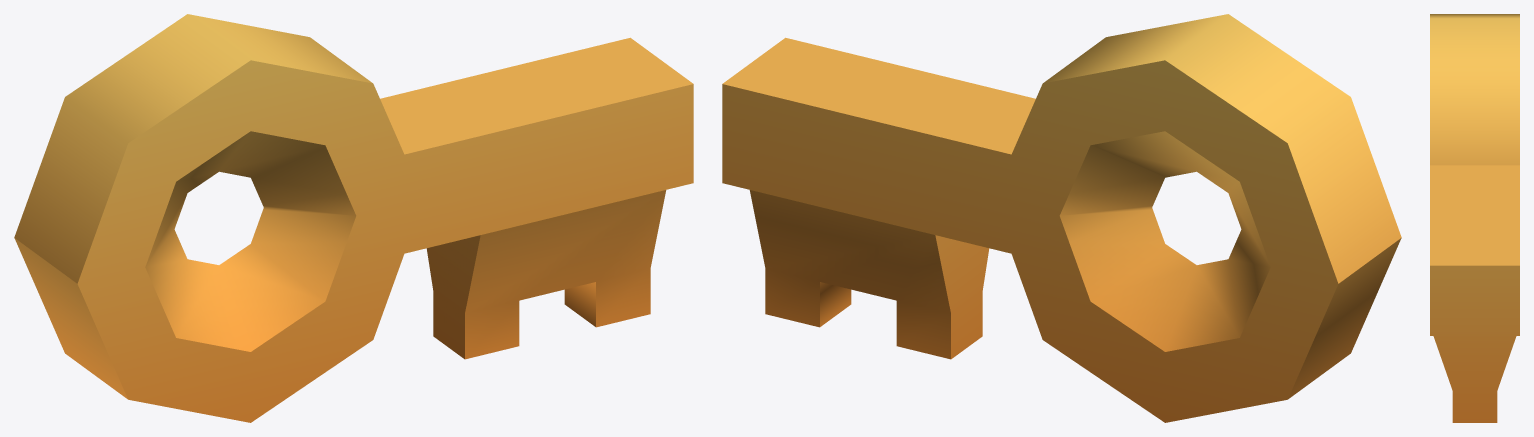
File: key.glb
3 views of the same model, side by side, from view 1: azimuth 30°, elevation 25°; view 2: azimuth 150°, elevation 25°; view 3: azimuth 270°, elevation 25° (orthographic). The views are drawn at different scales.
Visible parts, largest first — view 1: key; view 2: key; view 3: key.
Part boxes in pixels (x1,y1,x2,y2): key: [14, 14, 693, 422]; key: [722, 14, 1401, 422]; key: [1430, 14, 1519, 422].
Bounding box in the file's own units: 0.3817 × 0.2172 × 0.0679.
1 material, 1 textured.
